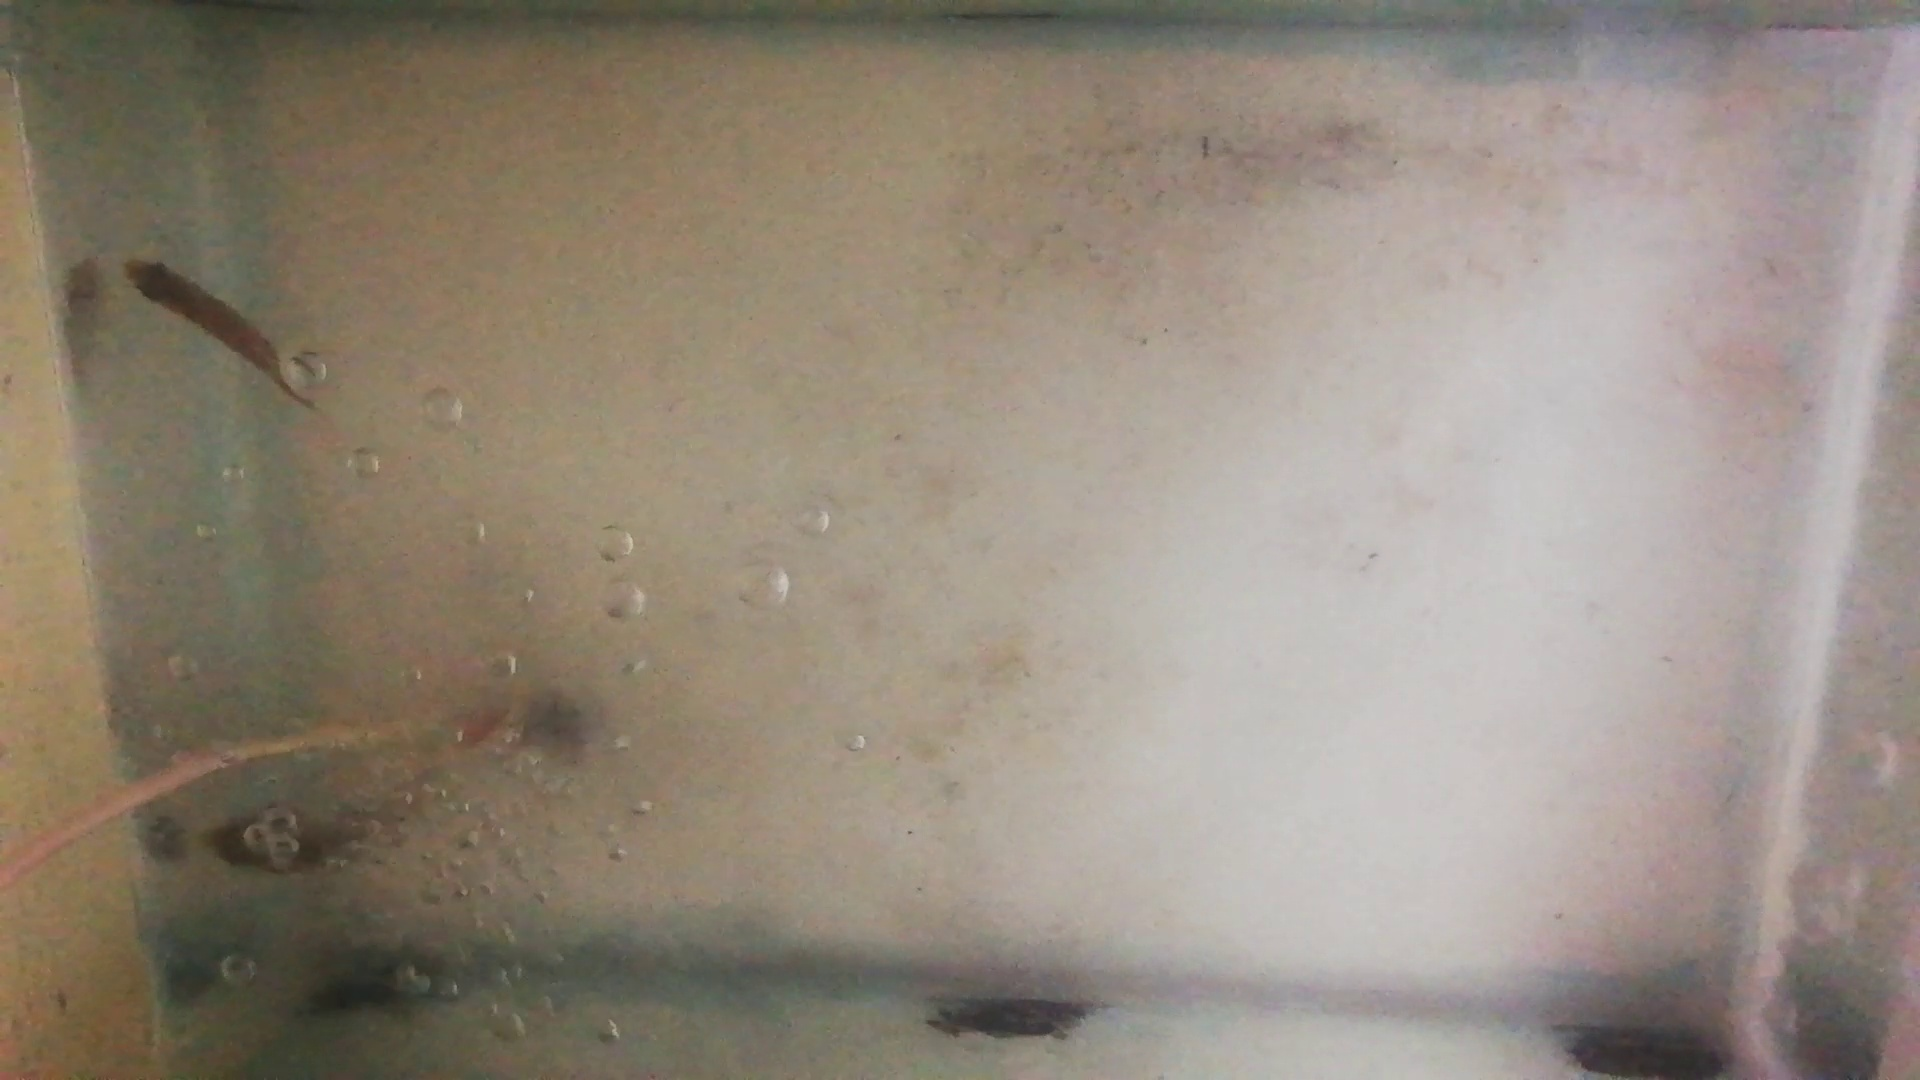fish: (124, 255, 293, 398), (200, 807, 400, 872)
